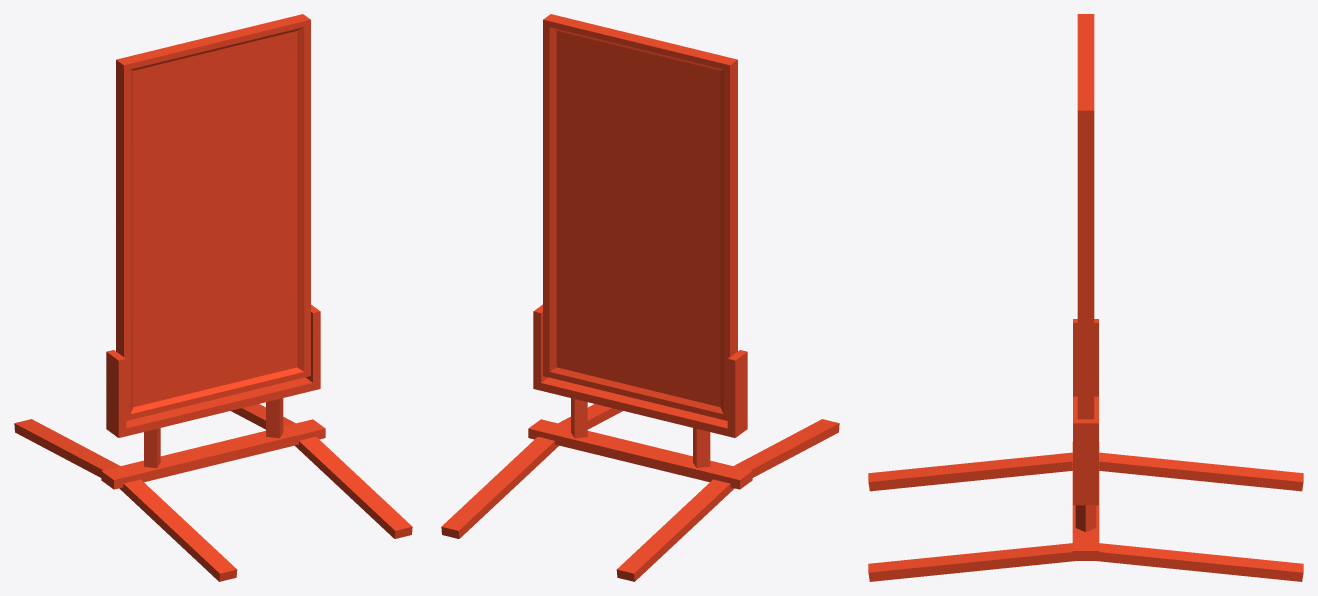
The model's file is SM_Sign_Standing_A_City.fbx.
The picture shows the model from 3 angles, left to right: view 1: azimuth 30°, elevation 25°; view 2: azimuth 150°, elevation 25°; view 3: azimuth 270°, elevation 25°; orthographic projection. The views are drawn at different scales.
Parts seen in each view (by area): view 1: SM_Sign_Standing_A_City; view 2: SM_Sign_Standing_A_City; view 3: SM_Sign_Standing_A_City.
Boxes of the visible parts, x1,y1,x2,y2 form: SM_Sign_Standing_A_City: [14, 14, 412, 581]; SM_Sign_Standing_A_City: [441, 14, 839, 581]; SM_Sign_Standing_A_City: [868, 14, 1303, 581].
Size of the model in its own units: 0.8035 by 1.61 by 1.35.
